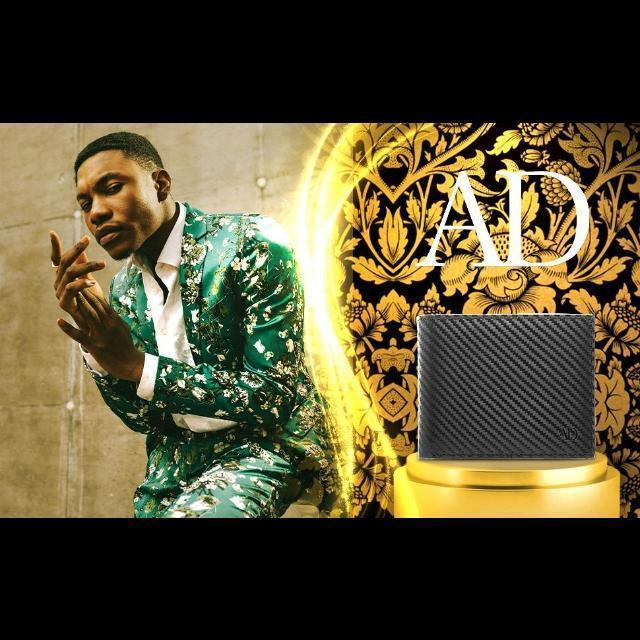wallet: (415, 310, 597, 462)
